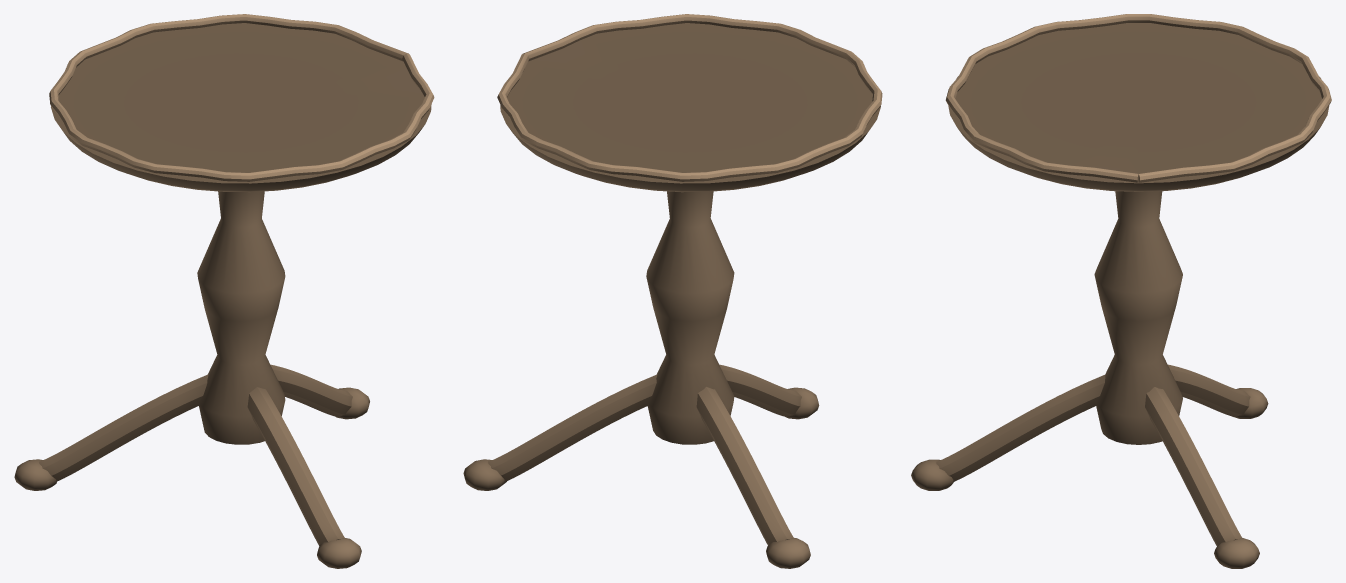
File: obj_kit_teatable.glb
The picture shows the model from 3 angles, left to right: view 1: azimuth 30°, elevation 25°; view 2: azimuth 150°, elevation 25°; view 3: azimuth 270°, elevation 25°; orthographic projection.
Parts seen in each view (by area): view 1: top, ped, rim, leg.001, leg.002, leg, Sphere.002, Sphere.001, Sphere; view 2: top, ped, rim, leg, leg.001, leg.002, Sphere.001, Sphere, Sphere.002; view 3: top, ped, rim, leg.002, leg, leg.001, Sphere, Sphere.002, Sphere.001.
Boxes of the visible parts, x1,y1,x2,y2 form: top: (51, 23, 431, 192); ped: (197, 191, 285, 444); rim: (49, 14, 434, 181); leg.001: (39, 374, 208, 481); leg.002: (247, 387, 344, 545); leg: (270, 364, 352, 416); Sphere.002: (317, 538, 361, 568); Sphere.001: (14, 459, 56, 490); Sphere: (336, 387, 369, 419); top: (500, 23, 880, 192); ped: (646, 191, 734, 444); rim: (497, 14, 882, 181); leg: (488, 374, 657, 481); leg.001: (696, 387, 793, 545); leg.002: (719, 364, 801, 416); Sphere.001: (766, 538, 810, 568); Sphere: (463, 459, 506, 490); Sphere.002: (785, 387, 819, 419); top: (948, 23, 1329, 191); ped: (1094, 191, 1182, 444); rim: (945, 14, 1331, 182); leg.002: (936, 374, 1105, 481); leg: (1145, 387, 1242, 545); leg.001: (1168, 364, 1250, 416); Sphere: (1214, 538, 1259, 568); Sphere.002: (911, 459, 953, 490); Sphere.001: (1232, 388, 1268, 418).
Size of the model in its own units: 0.5838 by 0.6418 by 0.6167.
